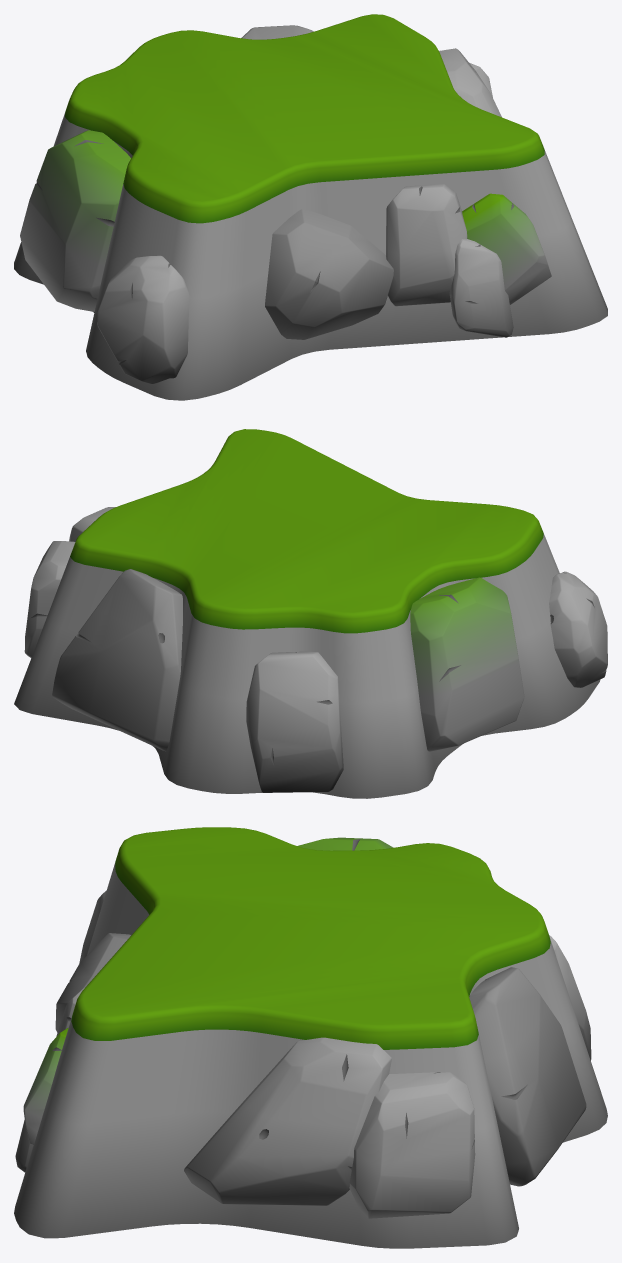
File: RockMountain04.fbx
3 views of the same model, one above another, from view 1: azimuth 30°, elevation 25°; view 2: azimuth 150°, elevation 25°; view 3: azimuth 270°, elevation 25° (orthographic). The views are drawn at different scales.
Parts seen in each view (by area): view 1: LOD0; view 2: LOD0; view 3: LOD0.
Boxes of the visible parts, x1=… form: LOD0: x1=14, y1=14, x2=607, y2=400; LOD0: x1=14, y1=429, x2=607, y2=798; LOD0: x1=14, y1=827, x2=607, y2=1248.
Size of what is drawn, in the model's own units: 1137 by 1039 by 375.
